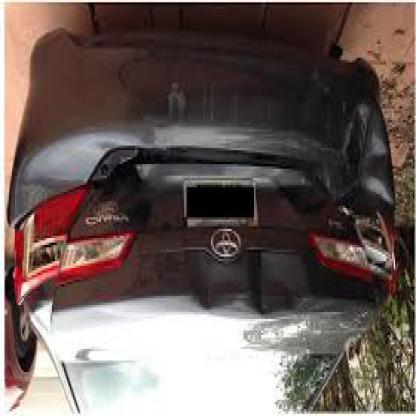dent: (346, 108, 388, 204), (182, 273, 268, 319)
